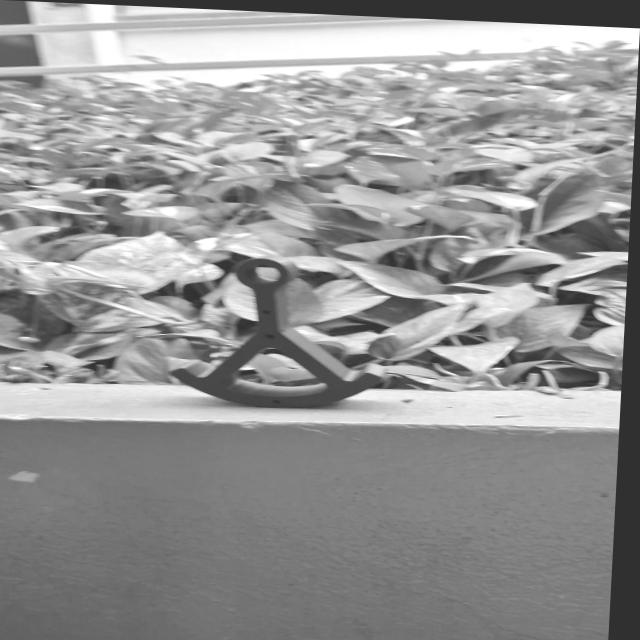haptic: (163, 250, 395, 414)
